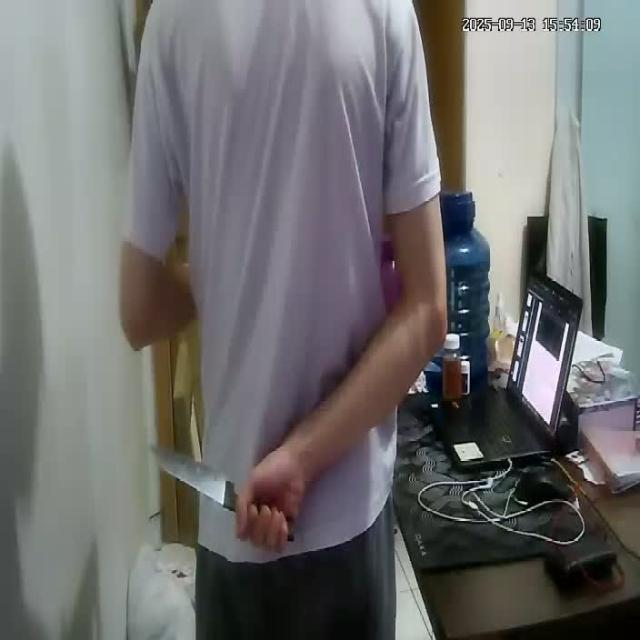senjata_tajam: (144, 438, 238, 513)
